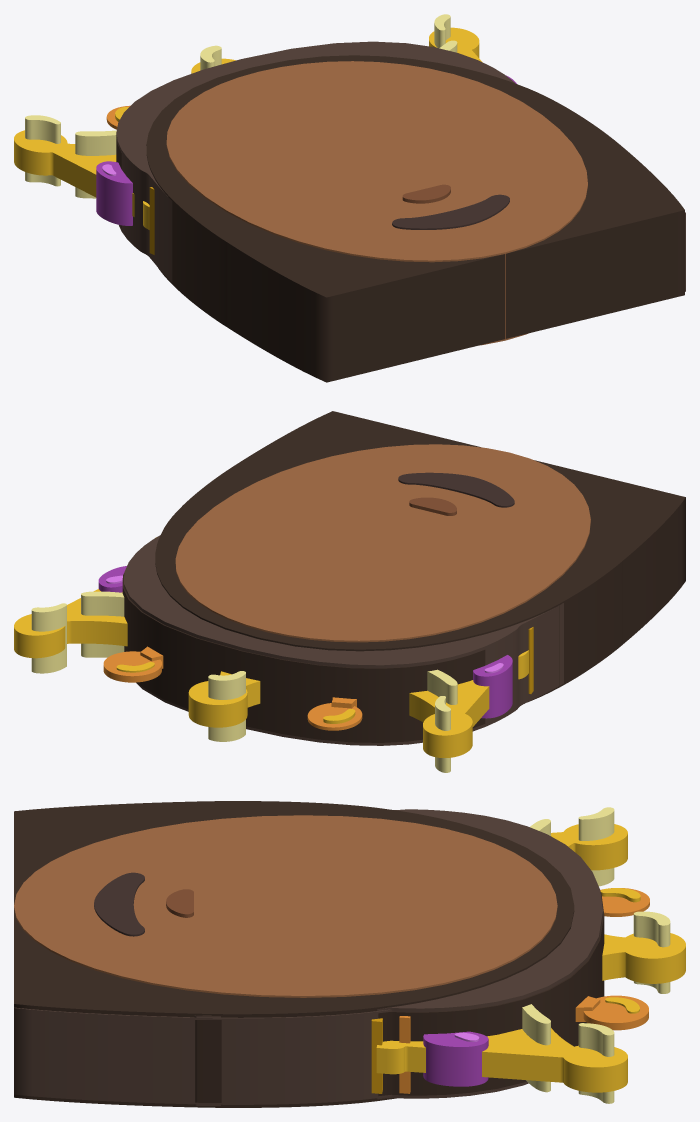
File: emoji_u1f478_1f3fe.glb
3 views of the same model, one above another, from view 1: azimuth 30°, elevation 25°; view 2: azimuth 150°, elevation 25°; view 3: azimuth 270°, elevation 25° (orthographic). The views are drawn at different scales.
Parts seen in each view (by area): view 1: emoji_u1f478_1f3fe; view 2: emoji_u1f478_1f3fe; view 3: emoji_u1f478_1f3fe.
Boxes of the visible parts, x1,y1,x2,y2 form: emoji_u1f478_1f3fe: (14,14,685,382); emoji_u1f478_1f3fe: (14,411,685,772); emoji_u1f478_1f3fe: (14,801,685,1107).
Size of the model in its own units: 0.0292 by 0.0058 by 0.0338.
